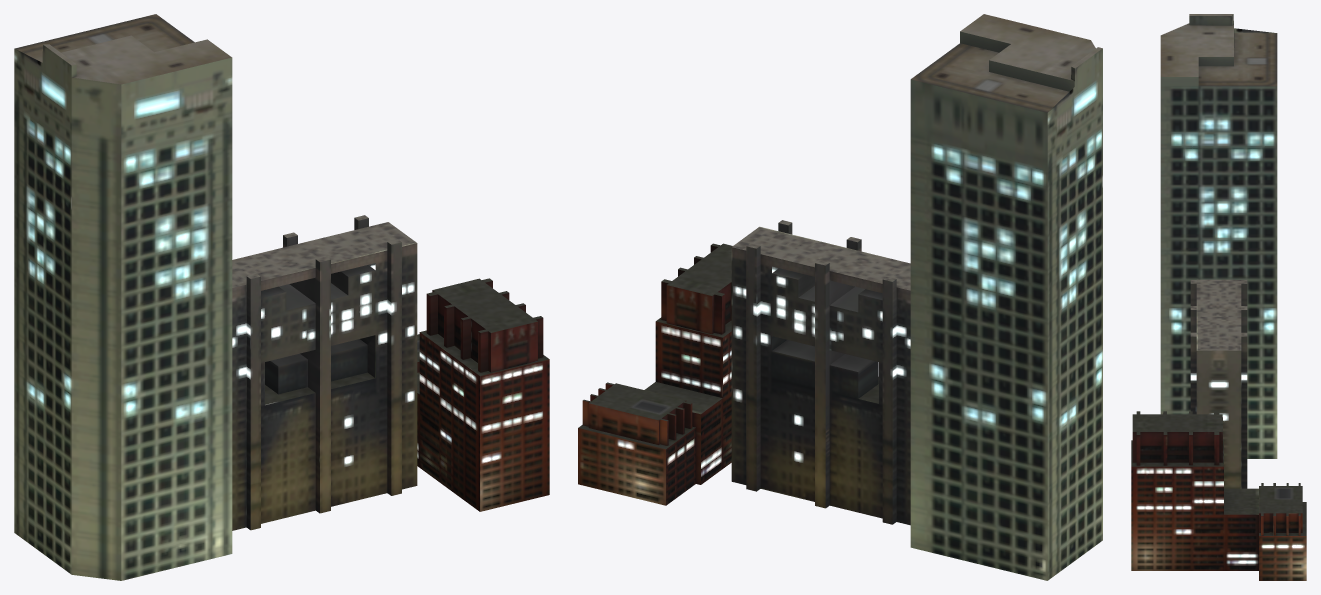
The model's file is tokyo-zakkyo-e.glb.
3 renders of one model, left to right at view 1: azimuth 30°, elevation 25°; view 2: azimuth 150°, elevation 25°; view 3: azimuth 270°, elevation 25°, orthographic. The views are drawn at different scales.
Parts seen in each view (by area): view 1: Clone of BACKGROUND_BUILDING_2.007_BACKGROUND_BUILDING_2_0, Clone of BACKGROUND_BUILDING_2.005_BACKGROUND_BUILDING_2_0, Clone of BACKGROUND_BUILDING_2.004_BACKGROUND_BUILDING_2_0; view 2: Clone of BACKGROUND_BUILDING_2.007_BACKGROUND_BUILDING_2_0, Clone of BACKGROUND_BUILDING_2.005_BACKGROUND_BUILDING_2_0, Clone of BACKGROUND_BUILDING_2.004_BACKGROUND_BUILDING_2_0; view 3: Clone of BACKGROUND_BUILDING_2.007_BACKGROUND_BUILDING_2_0, Clone of BACKGROUND_BUILDING_2.004_BACKGROUND_BUILDING_2_0, Clone of BACKGROUND_BUILDING_2.005_BACKGROUND_BUILDING_2_0.
Part boxes in pixels (x1,y1,x2,y2): Clone of BACKGROUND_BUILDING_2.007_BACKGROUND_BUILDING_2_0: (14,14,232,580); Clone of BACKGROUND_BUILDING_2.005_BACKGROUND_BUILDING_2_0: (232,215,417,530); Clone of BACKGROUND_BUILDING_2.004_BACKGROUND_BUILDING_2_0: (417,278,549,511); Clone of BACKGROUND_BUILDING_2.007_BACKGROUND_BUILDING_2_0: (910,14,1102,580); Clone of BACKGROUND_BUILDING_2.005_BACKGROUND_BUILDING_2_0: (731,220,910,525); Clone of BACKGROUND_BUILDING_2.004_BACKGROUND_BUILDING_2_0: (578,243,732,505); Clone of BACKGROUND_BUILDING_2.007_BACKGROUND_BUILDING_2_0: (1160,14,1277,458); Clone of BACKGROUND_BUILDING_2.004_BACKGROUND_BUILDING_2_0: (1131,411,1306,580); Clone of BACKGROUND_BUILDING_2.005_BACKGROUND_BUILDING_2_0: (1190,279,1247,488).
Bounding box in the file's own units: 185 × 193 × 78.04.
1 material, 1 textured.
